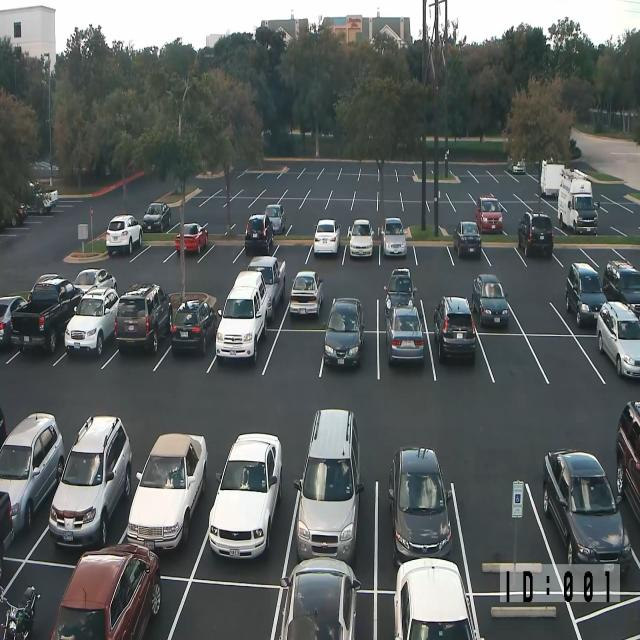car: (48, 414, 132, 548), (293, 407, 364, 564), (50, 543, 162, 639), (542, 449, 632, 567), (126, 432, 208, 552), (208, 432, 282, 560), (0, 411, 65, 539), (388, 445, 452, 567), (270, 556, 361, 640), (394, 556, 480, 640), (11, 274, 84, 354), (215, 270, 270, 363), (114, 282, 172, 354), (64, 286, 119, 356), (596, 300, 640, 378), (323, 296, 365, 368), (616, 399, 640, 523), (433, 295, 476, 363), (565, 261, 607, 327), (558, 169, 598, 235), (247, 255, 286, 322), (171, 298, 216, 356), (384, 304, 425, 365), (0, 584, 41, 640), (602, 258, 640, 316), (472, 274, 509, 327), (517, 210, 554, 258), (383, 268, 417, 316), (289, 270, 323, 317), (106, 214, 142, 255), (0, 294, 26, 346), (0, 489, 15, 576), (21, 180, 58, 215), (73, 268, 118, 296), (244, 212, 273, 254), (174, 222, 208, 255), (475, 195, 503, 234), (347, 218, 374, 258), (454, 220, 482, 258), (313, 218, 341, 255), (381, 217, 406, 256), (142, 202, 171, 232), (264, 202, 286, 235), (507, 152, 526, 174), (11, 202, 28, 226), (30, 160, 58, 172), (0, 407, 7, 452), (512, 158, 526, 174)
